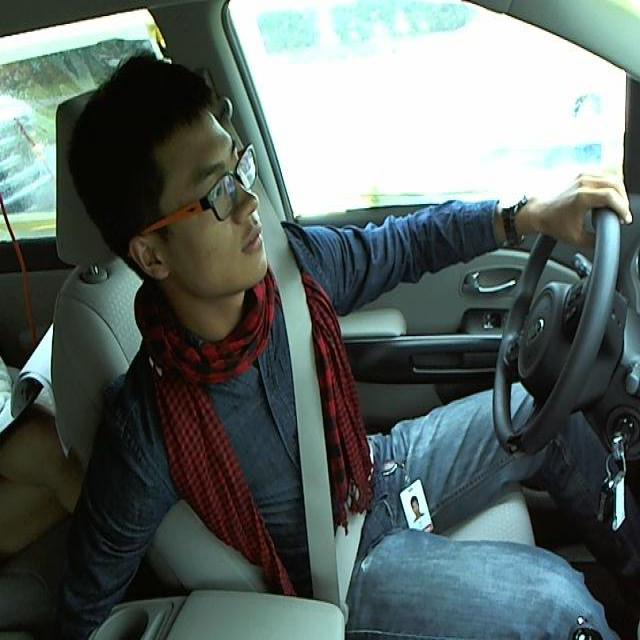seatbelt: (276, 281, 369, 596)
